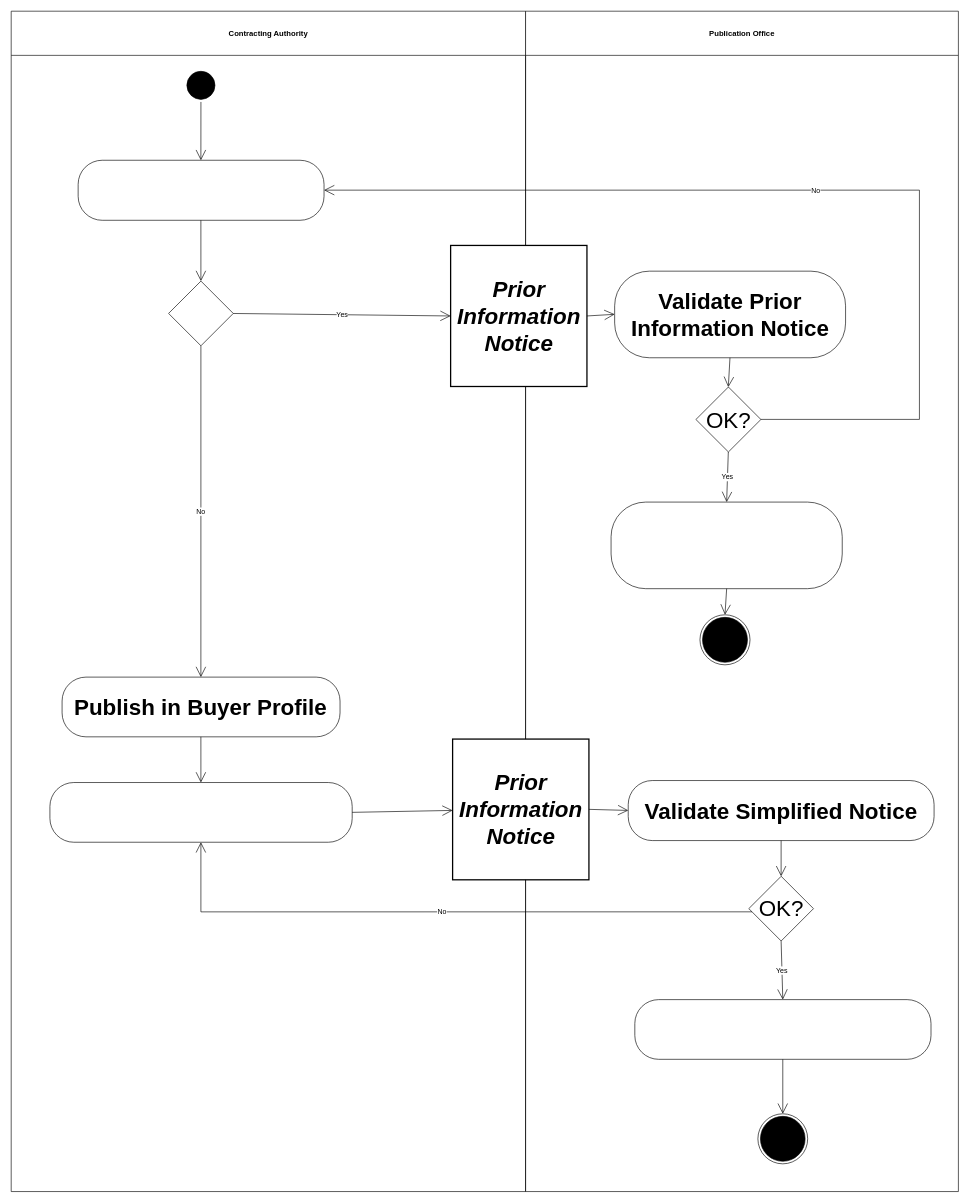
Some shapes in this 970 by 1203 pixel diagram are drawn without their labels. The centre of each missing label's shape, as x and y in pixels:
Prepare Prior Notice: the point at 201,190
Prepare Simplified Notice: the point at 200,812
Publish Prior Information Notice: the point at 726,545
Publish Simplified Notice: the point at 782,1029
